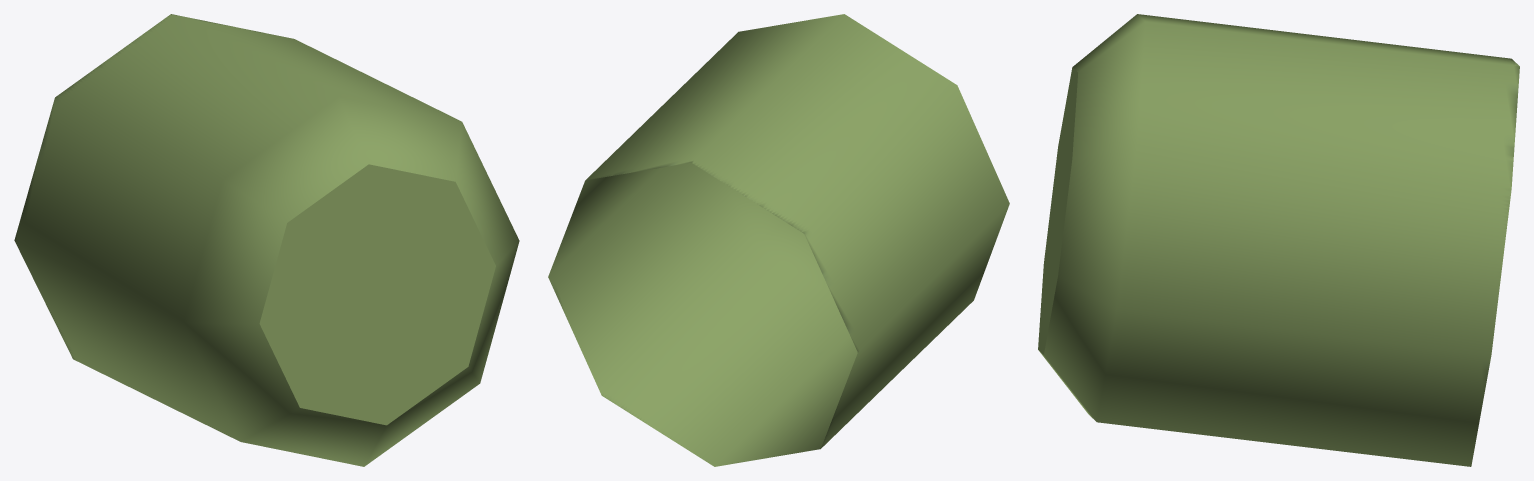
Rendered from button_left.glb.
3 views of the same model, side by side, from view 1: azimuth 30°, elevation 25°; view 2: azimuth 150°, elevation 25°; view 3: azimuth 270°, elevation 25° (orthographic). The views are drawn at different scales.
Visible parts, largest first — view 1: button_left; view 2: button_left; view 3: button_left.
Part boxes in pixels (<box>): button_left: <box>14,14,519,466</box>; button_left: <box>548,14,1009,466</box>; button_left: <box>1038,14,1519,466</box>.
Size of the model in its own units: 0.0108 by 0.0119 by 0.0119.
Materials: 1 (1 with a texture image).
